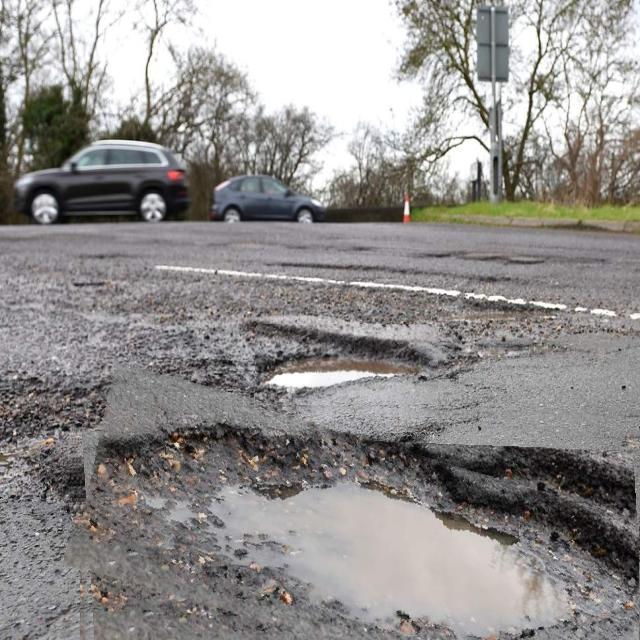Pothole: (71, 396, 639, 640), (255, 324, 438, 405)
